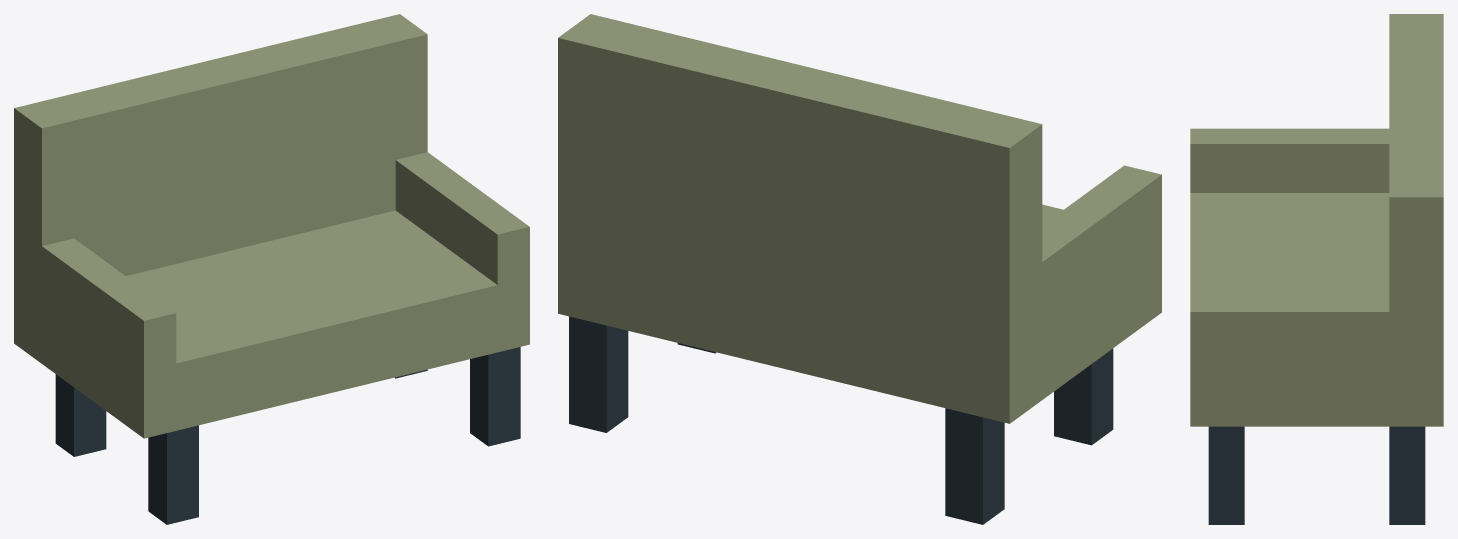
Rendered from property-07.glb.
3 renders of one model, left to right at view 1: azimuth 30°, elevation 25°; view 2: azimuth 150°, elevation 25°; view 3: azimuth 270°, elevation 25°, orthographic. The views are drawn at different scales.
Parts seen in each view (by area): view 1: Lounge sofa; view 2: Lounge sofa; view 3: Lounge sofa.
Boxes of the visible parts, x1,y1,x2,y2 form: Lounge sofa: (14,14,529,524); Lounge sofa: (558,14,1161,524); Lounge sofa: (1190,14,1443,524).
Bounding box in the file's own units: 1.92 × 1.6 × 1.12.
